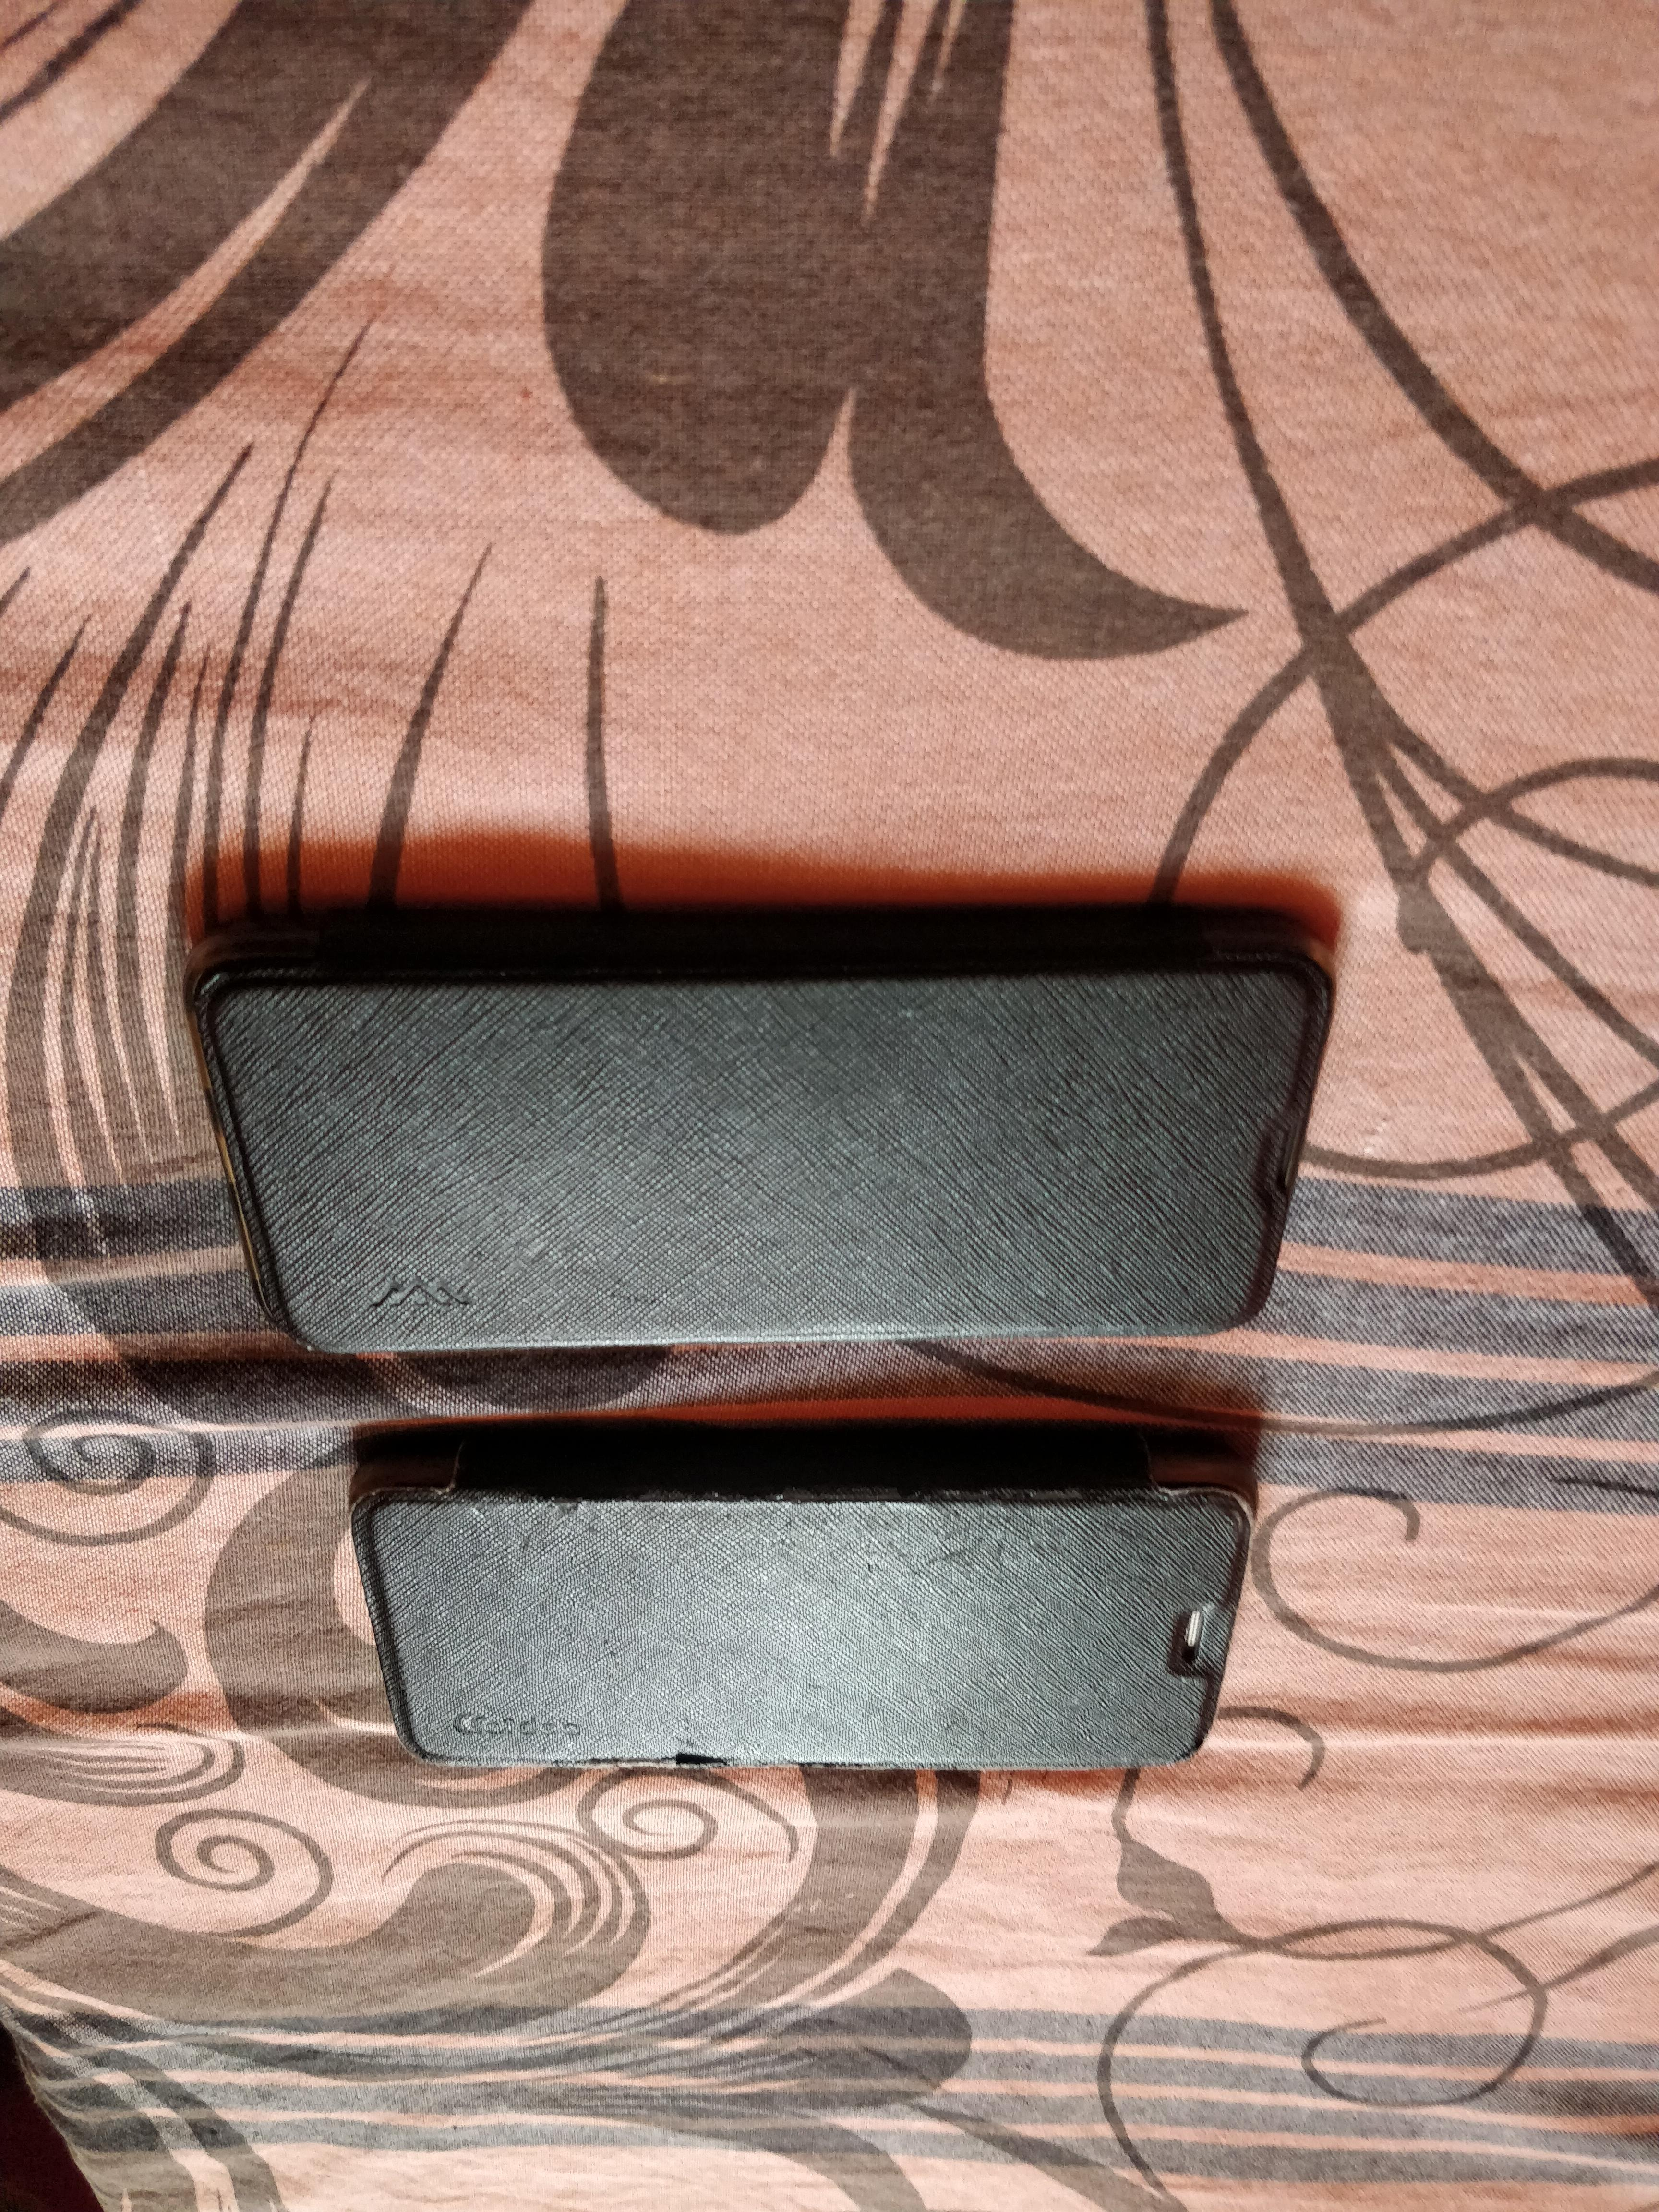Phone: (131, 845, 1401, 1397), (314, 1407, 1303, 1804)
